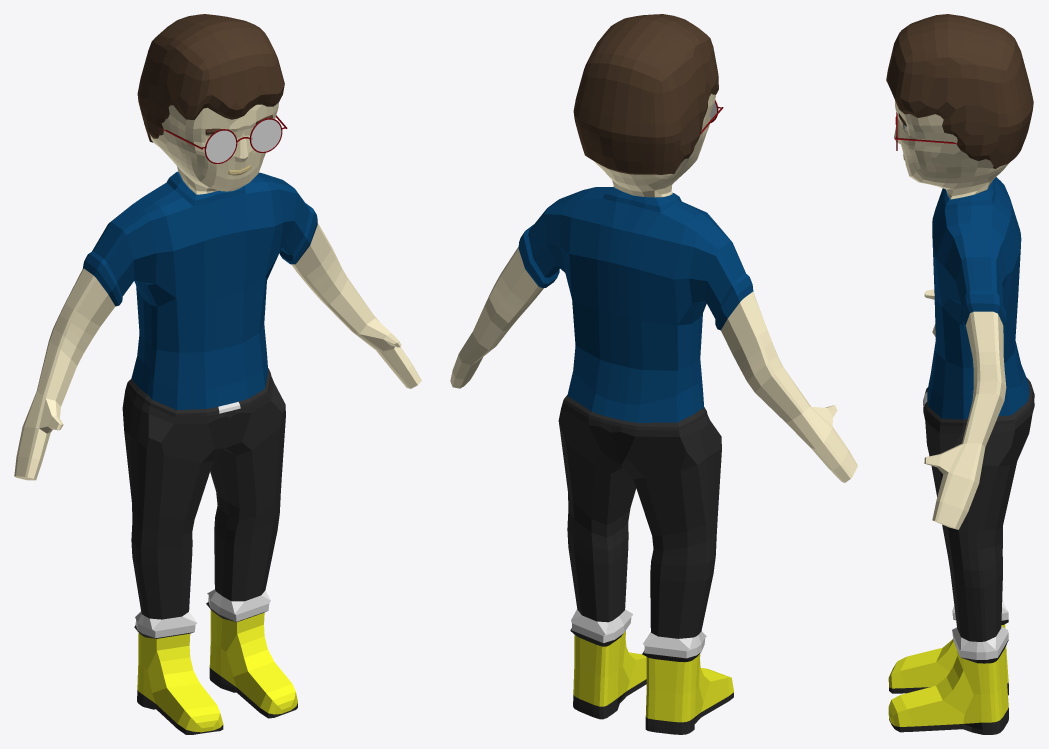
File: CharacterAaron(1).fbx
3 views of the same model, side by side, from view 1: azimuth 30°, elevation 25°; view 2: azimuth 150°, elevation 25°; view 3: azimuth 270°, elevation 25° (orthographic).
Parts seen in each view (by area): view 1: Body; view 2: Body; view 3: Body.
Part boxes in pixels (x1,y1,x2,y2): Body: (14, 14, 421, 734); Body: (450, 14, 857, 734); Body: (886, 14, 1034, 734).
Bounding box in the file's own units: 320 × 521 × 102.
